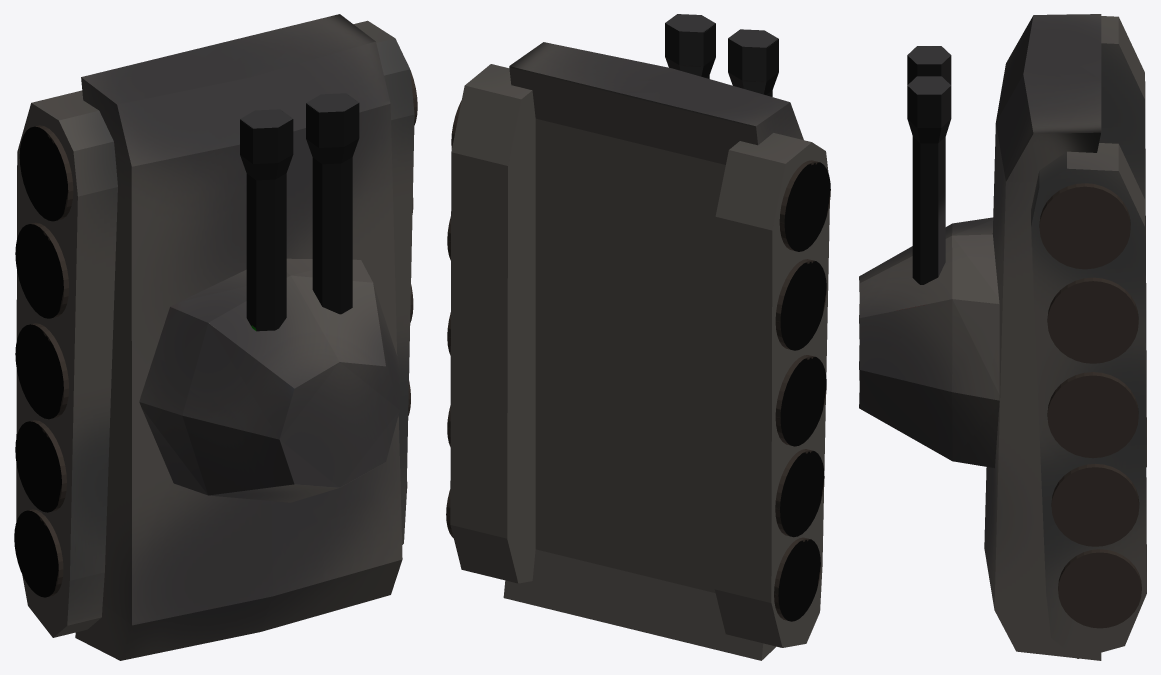
File: tank2.obj
3 renders of one model, left to right at view 1: azimuth 30°, elevation 25°; view 2: azimuth 150°, elevation 25°; view 3: azimuth 270°, elevation 25°, orthographic. The views are drawn at different scales.
Visible parts, largest first — view 1: body1_Cube.004, head_1_Cube, body.001_Cube.006, head3_Cube.012, head2_Cube.011, body2_Cube.010, body4_Cylinder.007, body.003_Cylinder.008, body.002_Cylinder.006, body.004_Cylinder.009, body_Cylinder.010; view 2: body1_Cube.004, body2_Cube.010, body.001_Cube.006, body.003_Cylinder.008, body4_Cylinder.007, body.002_Cylinder.006, body.004_Cylinder.009, body_Cylinder.010, head3_Cube.012, head2_Cube.011; view 3: body1_Cube.004, head_1_Cube, body2_Cube.010, head2_Cube.011, body.005_Cylinder.005, body.006_Cylinder.004, body.007_Cylinder.003, body.001_Cube.006, body.008_Cylinder.002, body.009_Cylinder.001, head3_Cube.012.
Part boxes in pixels (<box>): body1_Cube.004: <box>75,14,402,660</box>; head_1_Cube: <box>139,258,399,502</box>; body.001_Cube.006: <box>16,90,117,637</box>; head3_Cube.012: <box>240,109,293,331</box>; head2_Cube.011: <box>306,93,359,314</box>; body2_Cube.010: <box>353,20,414,544</box>; body4_Cylinder.007: <box>15,222,68,318</box>; body.003_Cylinder.008: <box>15,323,68,419</box>; body.002_Cylinder.006: <box>19,125,73,221</box>; body.004_Cylinder.009: <box>15,420,66,512</box>; body_Cylinder.010: <box>14,509,63,597</box>; body1_Cube.004: <box>503,42,803,660</box>; body2_Cube.010: <box>450,64,535,583</box>; body.001_Cube.006: <box>714,133,829,647</box>; body.003_Cylinder.008: <box>775,355,826,446</box>; body4_Cylinder.007: <box>775,259,826,350</box>; body.002_Cylinder.006: <box>779,160,830,251</box>; body.004_Cylinder.009: <box>775,449,824,537</box>; body_Cylinder.010: <box>774,537,820,621</box>; head3_Cube.012: <box>728,29,778,96</box>; head2_Cube.011: <box>665,14,715,78</box>; body1_Cube.004: <box>984,14,1101,660</box>; head_1_Cube: <box>859,217,999,468</box>; body2_Cube.010: <box>1031,143,1146,658</box>; head2_Cube.011: <box>907,76,951,284</box>; body.005_Cylinder.005: <box>1039,183,1130,269</box>; body.006_Cylinder.004: <box>1047,277,1138,363</box>; body.007_Cylinder.003: <box>1047,372,1138,458</box>; body.001_Cube.006: <box>1067,14,1146,467</box>; body.008_Cylinder.002: <box>1051,463,1139,546</box>; body.009_Cylinder.001: <box>1058,549,1141,628</box>; head3_Cube.012: <box>907,46,951,84</box>.
Size of the model in its own units: 68.06 by 104 by 51.66.
Materials: 3 (3 with a texture image).
